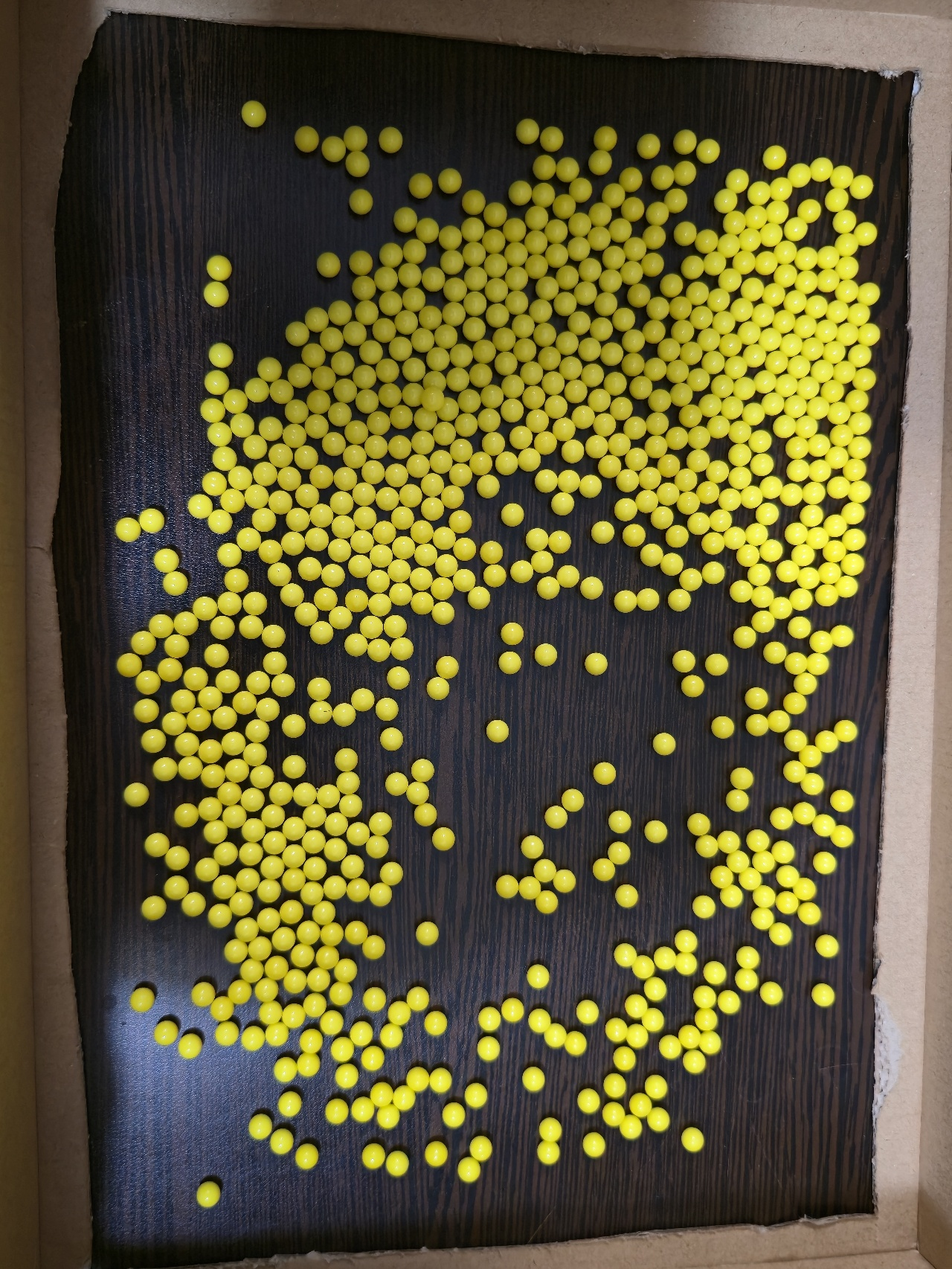yellow_bead: (223, 548, 236, 562), (213, 515, 227, 528), (194, 500, 208, 513), (248, 440, 262, 453), (121, 523, 134, 536), (145, 514, 158, 527), (218, 452, 231, 465), (159, 556, 173, 568), (210, 287, 222, 301), (582, 1006, 594, 1019), (659, 952, 671, 965), (288, 822, 300, 835), (250, 490, 263, 502), (234, 472, 247, 484), (550, 1029, 561, 1043), (534, 1014, 545, 1028), (483, 1042, 495, 1054), (742, 951, 754, 963), (822, 940, 834, 952), (650, 826, 662, 838), (567, 794, 579, 806), (269, 657, 281, 669), (292, 513, 304, 525), (259, 467, 271, 479), (236, 419, 248, 431), (206, 404, 218, 416), (251, 384, 263, 396), (856, 181, 868, 193), (766, 987, 777, 1000), (710, 967, 721, 980), (335, 497, 348, 508), (833, 482, 846, 493), (274, 449, 287, 460), (264, 423, 277, 434), (357, 1027, 367, 1041), (242, 533, 256, 543), (650, 983, 661, 995), (681, 935, 692, 947), (776, 928, 787, 940), (699, 901, 710, 913), (621, 890, 632, 902), (782, 870, 794, 881), (821, 857, 832, 869), (288, 849, 300, 860), (614, 847, 625, 859), (779, 846, 790, 858), (268, 836, 280, 847), (753, 835, 765, 846), (330, 818, 342, 829), (614, 816, 625, 828), (776, 813, 788, 824), (808, 778, 819, 790), (158, 762, 170, 773), (228, 737, 240, 748), (492, 725, 504, 736), (800, 678, 812, 689), (393, 672, 405, 683), (794, 622, 806, 633), (782, 565, 794, 576), (597, 527, 609, 538), (557, 498, 569, 509), (809, 487, 820, 499), (765, 482, 777, 493), (390, 469, 402, 480), (814, 465, 826, 476), (793, 465, 805, 476), (413, 460, 424, 472), (756, 459, 768, 470), (436, 456, 447, 468), (779, 421, 791, 432), (311, 420, 323, 431), (507, 404, 518, 416), (768, 398, 779, 410), (760, 376, 771, 388), (749, 350, 761, 361), (765, 333, 776, 345), (748, 283, 759, 295), (794, 169, 805, 181), (688, 1133, 698, 1146), (328, 1016, 338, 1029), (534, 970, 544, 983), (130, 788, 143, 798), (216, 621, 229, 631), (311, 533, 324, 543), (337, 521, 350, 531), (817, 163, 827, 176), (412, 992, 423, 1003), (422, 927, 433, 938), (702, 841, 713, 852), (248, 823, 259, 834), (819, 820, 830, 831), (551, 812, 562, 823), (800, 808, 811, 819), (791, 735, 802, 746), (591, 658, 602, 669), (504, 657, 515, 668), (674, 594, 685, 605), (543, 582, 554, 593), (754, 569, 765, 580), (537, 556, 548, 567), (421, 549, 432, 560), (532, 533, 543, 544), (730, 533, 741, 544), (830, 520, 841, 531), (694, 518, 705, 529), (725, 494, 736, 505), (855, 486, 866, 497), (428, 479, 439, 490), (341, 472, 352, 483), (693, 455, 704, 466), (855, 442, 866, 453), (755, 436, 766, 447), (516, 431, 527, 442), (803, 382, 814, 393), (782, 380, 793, 391), (855, 350, 866, 361), (819, 989, 829, 1001), (741, 976, 753, 986), (757, 915, 769, 925), (385, 867, 397, 877), (299, 788, 311, 798), (391, 778, 403, 788), (658, 739, 670, 749), (338, 709, 350, 719), (210, 649, 222, 659), (837, 631, 849, 641), (366, 621, 378, 631), (335, 611, 347, 621), (473, 592, 485, 602), (286, 589, 298, 599), (709, 567, 719, 579), (287, 537, 299, 547), (356, 536, 368, 546), (427, 503, 439, 513), (358, 488, 370, 498), (541, 475, 553, 485), (283, 472, 295, 482), (367, 466, 379, 476), (349, 450, 361, 460), (567, 445, 579, 455), (370, 441, 382, 451), (330, 437, 340, 449), (532, 415, 544, 425), (749, 408, 759, 420), (814, 402, 824, 414), (617, 402, 627, 414), (843, 329, 853, 341), (759, 309, 769, 321), (530, 1073, 539, 1086), (667, 1041, 676, 1054), (622, 949, 631, 962), (187, 898, 200, 907), (307, 835, 320, 844), (267, 810, 280, 819), (315, 626, 328, 635), (303, 562, 316, 571), (333, 544, 346, 553), (223, 597, 237, 605), (588, 1140, 599, 1150), (649, 1015, 659, 1026), (213, 910, 224, 920), (759, 892, 770, 902), (266, 861, 277, 871), (347, 860, 358, 870), (151, 838, 162, 848), (375, 817, 386, 827), (417, 765, 428, 775), (433, 683, 444, 693), (679, 655, 689, 666), (541, 649, 552, 659), (817, 636, 827, 647), (438, 607, 449, 617), (777, 603, 787, 614), (797, 594, 807, 605), (643, 594, 654, 604), (687, 574, 697, 585), (647, 549, 657, 560), (767, 545, 777, 556), (439, 533, 450, 543), (752, 529, 762, 540), (716, 515, 727, 525), (849, 508, 860, 518), (643, 495, 653, 506), (382, 492, 393, 502), (787, 489, 797, 500), (663, 488, 674, 498), (586, 481, 596, 492), (564, 475, 574, 486), (624, 475, 634, 486), (736, 472, 746, 483), (713, 466, 724, 476), (525, 454, 536, 464), (833, 452, 843, 463), (301, 451, 312, 461), (456, 444, 467, 454), (592, 441, 602, 452), (489, 437, 499, 448), (289, 429, 300, 439), (440, 428, 451, 438), (600, 419, 611, 429), (485, 414, 495, 425), (229, 395, 239, 406), (589, 369, 599, 380), (818, 365, 828, 376), (264, 365, 275, 375), (794, 362, 805, 372), (216, 349, 227, 359), (855, 309, 865, 320), (737, 305, 747, 316), (812, 301, 822, 312), (471, 298, 481, 309), (472, 272, 482, 283), (824, 251, 834, 262), (721, 195, 732, 205), (692, 1056, 701, 1068), (247, 1034, 256, 1046), (634, 1029, 643, 1041), (235, 897, 247, 906), (329, 881, 341, 890), (541, 864, 550, 876), (201, 863, 213, 872), (219, 847, 231, 856), (329, 844, 341, 853), (246, 794, 258, 803), (342, 777, 354, 786), (288, 760, 300, 769), (147, 734, 159, 743), (386, 733, 398, 742), (381, 703, 393, 712), (373, 644, 385, 653), (396, 643, 408, 652), (300, 608, 312, 617), (199, 602, 211, 611), (759, 591, 768, 603), (395, 588, 407, 597), (738, 585, 747, 597), (516, 566, 528, 575), (393, 565, 405, 574), (354, 560, 366, 569), (375, 550, 387, 559), (398, 542, 410, 551), (359, 512, 371, 521), (765, 508, 774, 520), (226, 495, 238, 504), (302, 489, 314, 498), (455, 469, 467, 478), (336, 408, 345, 420), (705, 145, 714, 157), (548, 1123, 556, 1136), (656, 1113, 664, 1126), (147, 902, 160, 910), (251, 725, 264, 733), (221, 675, 234, 683), (245, 621, 258, 629), (274, 496, 287, 504), (241, 923, 251, 933), (219, 880, 229, 890), (760, 857, 770, 867), (713, 659, 723, 669), (771, 647, 781, 657), (682, 474, 692, 484), (646, 472, 656, 482), (615, 439, 625, 449), (419, 437, 429, 447), (856, 418, 866, 428), (579, 411, 589, 421), (835, 408, 845, 418), (552, 401, 562, 411), (732, 362, 742, 372), (457, 350, 467, 360), (865, 288, 875, 298), (843, 286, 853, 296), (471, 1093, 482, 1102), (435, 1079, 446, 1088), (313, 974, 324, 983), (681, 960, 692, 969), (263, 913, 274, 922), (375, 889, 386, 898), (171, 881, 182, 890), (243, 874, 254, 883), (171, 852, 182, 861), (726, 836, 735, 847), (275, 787, 286, 796), (288, 720, 299, 729), (205, 692, 216, 701), (815, 658, 824, 669), (760, 616, 769, 627), (620, 596, 631, 605), (586, 582, 597, 591), (170, 577, 181, 586), (459, 574, 470, 583), (231, 574, 242, 583), (850, 559, 859, 570), (316, 510, 327, 519), (507, 509, 518, 518), (405, 489, 416, 498), (483, 481, 494, 490), (852, 464, 861, 475), (737, 449, 746, 460), (216, 428, 225, 439), (559, 423, 570, 432), (632, 422, 641, 433), (729, 402, 738, 413), (596, 394, 605, 405), (550, 377, 559, 388), (361, 371, 370, 382), (609, 348, 618, 359), (809, 343, 818, 354), (788, 339, 797, 350), (419, 334, 428, 345), (746, 327, 755, 338), (802, 321, 811, 332), (495, 309, 504, 320), (834, 306, 843, 317), (727, 274, 736, 285), (493, 260, 502, 271), (756, 187, 765, 198), (654, 1081, 662, 1093), (338, 1044, 346, 1056), (395, 1006, 403, 1018), (634, 1000, 642, 1012), (727, 997, 735, 1009), (702, 991, 710, 1003), (352, 828, 364, 836), (209, 826, 221, 834), (228, 812, 240, 820), (309, 810, 321, 818), (323, 790, 335, 798), (256, 771, 268, 779), (599, 768, 611, 776), (340, 754, 352, 762), (181, 738, 193, 746), (825, 736, 833, 748), (140, 704, 152, 712), (357, 694, 369, 702), (277, 679, 289, 687), (268, 630, 280, 638), (248, 597, 260, 605), (415, 573, 427, 581), (562, 571, 574, 579), (495, 283, 503, 295), (214, 262, 222, 274), (587, 1095, 594, 1108), (343, 1074, 353, 1083), (271, 1031, 280, 1041), (223, 1031, 232, 1041), (729, 892, 738, 902), (526, 881, 536, 890), (746, 875, 756, 884), (560, 875, 570, 884), (735, 857, 744, 867), (438, 832, 448, 841), (739, 773, 748, 783), (791, 766, 800, 776), (754, 719, 763, 729), (793, 658, 802, 668), (668, 559, 678, 568), (658, 512, 668, 521), (398, 512, 408, 521), (622, 504, 631, 514), (502, 457, 512, 466), (396, 442, 406, 451), (653, 418, 663, 427), (792, 401, 801, 411), (707, 400, 716, 410), (573, 385, 582, 395), (741, 383, 750, 393), (719, 381, 728, 391), (861, 373, 870, 383), (841, 367, 850, 377), (410, 364, 419, 374), (831, 347, 840, 357), (368, 347, 377, 357), (397, 343, 406, 353), (706, 334, 715, 344), (866, 329, 875, 339), (721, 317, 730, 327), (576, 317, 585, 327), (451, 308, 460, 318), (537, 306, 547, 315), (608, 275, 617, 285), (843, 263, 853, 272), (711, 257, 721, 266), (803, 253, 812, 263), (576, 243, 585, 253), (768, 229, 777, 239), (863, 228, 872, 238), (774, 207, 783, 217), (839, 171, 848, 181), (707, 1038, 715, 1049), (641, 961, 649, 972), (319, 907, 330, 915), (310, 863, 321, 871), (841, 795, 849, 806), (231, 764, 242, 772), (168, 717, 179, 725), (219, 712, 230, 720), (314, 683, 325, 691), (191, 672, 202, 680), (137, 637, 148, 645), (180, 617, 191, 625), (844, 581, 852, 592), (373, 575, 384, 583), (379, 527, 390, 535), (738, 426, 746, 437), (511, 380, 519, 391), (456, 373, 464, 384), (568, 362, 576, 373), (588, 344, 596, 355), (515, 296, 523, 307), (263, 886, 275, 893), (245, 849, 257, 856), (184, 762, 196, 769), (249, 749, 261, 756), (262, 707, 274, 714), (177, 695, 189, 702), (187, 1041, 196, 1050), (280, 933, 289, 942), (776, 716, 785, 725), (674, 530, 683, 539), (634, 454, 643, 463), (631, 335, 640, 344), (442, 331, 451, 340), (520, 321, 529, 330), (383, 274, 392, 283), (725, 240, 734, 249), (843, 240, 852, 249), (387, 1035, 397, 1043), (138, 994, 146, 1004), (230, 945, 240, 953), (373, 841, 383, 849), (443, 661, 453, 669), (740, 632, 750, 640), (375, 600, 385, 608), (265, 545, 275, 553), (686, 497, 694, 507), (448, 491, 458, 499), (697, 432, 705, 442), (530, 367, 538, 377), (340, 358, 348, 368), (470, 326, 480, 334), (695, 287, 703, 297), (783, 270, 791, 280), (408, 269, 416, 279), (372, 992, 379, 1003), (171, 640, 182, 647), (316, 470, 327, 477), (437, 353, 444, 364), (405, 316, 412, 327), (584, 287, 591, 298), (451, 1114, 460, 1122), (288, 1012, 297, 1020), (255, 942, 263, 951), (304, 926, 312, 935), (808, 910, 816, 919), (803, 884, 811, 893), (422, 809, 431, 817), (205, 803, 214, 811), (143, 676, 152, 684), (419, 597, 428, 605), (824, 591, 832, 600), (827, 568, 835, 577), (746, 550, 754, 559), (556, 536, 565, 544), (791, 528, 800, 536), (257, 518, 269, 524), (654, 441, 662, 450), (855, 396, 863, 405), (831, 387, 839, 396), (676, 367, 684, 376), (504, 358, 512, 367), (565, 338, 573, 347), (352, 329, 360, 338), (782, 318, 790, 327), (825, 277, 834, 285), (201, 988, 208, 998), (307, 889, 317, 896), (845, 726, 852, 736), (508, 628, 518, 635), (321, 593, 331, 600), (438, 582, 448, 589), (460, 543, 470, 550), (418, 526, 428, 533), (456, 515, 466, 522), (210, 477, 220, 484), (717, 421, 724, 431), (292, 408, 302, 415), (365, 396, 372, 406), (276, 387, 286, 394), (344, 385, 351, 395), (614, 378, 621, 388), (712, 357, 719, 367), (330, 334, 337, 344), (589, 264, 596, 274), (836, 194, 843, 204), (341, 966, 352, 972), (527, 846, 538, 852), (489, 570, 500, 576), (433, 393, 439, 404), (565, 298, 571, 309), (718, 294, 724, 305), (614, 251, 620, 262), (545, 897, 553, 905), (602, 864, 610, 872), (721, 722, 729, 730), (754, 693, 762, 701), (600, 325, 608, 333), (411, 295, 419, 303), (453, 286, 461, 294), (268, 1009, 275, 1018), (293, 975, 300, 984), (246, 966, 255, 973), (695, 819, 704, 826), (206, 745, 215, 752), (689, 681, 698, 688), (607, 460, 616, 467), (840, 431, 847, 440), (422, 417, 431, 424), (533, 391, 540, 400), (623, 315, 630, 324), (432, 274, 439, 283), (450, 257, 457, 266), (472, 225, 479, 234), (276, 1135, 286, 1141), (698, 374, 704, 384), (605, 298, 611, 308), (547, 282, 553, 292), (516, 273, 522, 283), (631, 267, 637, 277), (634, 243, 640, 253), (465, 1169, 472, 1177), (842, 832, 849, 840), (182, 809, 190, 816), (242, 697, 250, 704), (658, 396, 665, 404), (680, 389, 687, 397), (297, 372, 305, 379), (654, 364, 661, 372), (296, 330, 303, 338), (314, 317, 322, 324), (771, 291, 779, 298), (670, 280, 677, 288), (765, 260, 772, 268), (748, 237, 755, 245), (619, 226, 626, 234), (684, 137, 691, 145), (412, 792, 423, 797), (441, 564, 452, 569), (631, 1125, 637, 1134), (401, 1093, 407, 1102), (489, 1012, 495, 1021), (225, 788, 234, 794), (811, 751, 817, 760), (166, 664, 175, 670), (631, 530, 640, 536), (677, 433, 683, 442), (469, 396, 475, 405), (657, 303, 663, 312), (390, 299, 396, 308), (692, 263, 698, 272), (599, 234, 605, 243), (657, 208, 663, 217), (203, 1189, 213, 1194), (709, 487, 714, 497), (386, 1114, 393, 1121), (668, 346, 675, 353), (338, 310, 345, 317), (397, 1160, 403, 1168), (548, 1151, 554, 1159), (477, 1148, 485, 1154), (313, 1000, 319, 1008), (373, 941, 379, 949), (208, 771, 216, 777), (126, 659, 134, 665), (489, 547, 497, 553), (544, 437, 550, 445), (377, 421, 385, 427), (466, 420, 472, 428), (492, 392, 498, 400), (683, 327, 689, 335), (701, 313, 707, 321), (366, 309, 372, 317), (685, 228, 691, 236), (808, 207, 816, 213), (280, 1065, 289, 1070), (507, 881, 512, 890), (722, 872, 727, 881), (835, 546, 840, 555), (551, 353, 556, 362), (299, 951, 306, 957), (289, 906, 295, 913), (196, 713, 202, 720), (280, 571, 286, 578), (713, 538, 719, 545), (480, 458, 486, 465), (448, 406, 454, 413), (434, 377, 440, 384), (654, 327, 660, 334), (744, 258, 750, 265), (390, 252, 397, 258), (515, 251, 522, 257), (556, 227, 562, 234), (520, 189, 526, 196), (616, 1083, 621, 1091), (617, 1026, 622, 1034), (642, 384, 647, 392), (692, 349, 697, 357), (545, 330, 550, 338), (557, 251, 562, 259), (414, 246, 419, 254), (260, 1123, 266, 1129), (360, 1108, 366, 1114), (436, 1021, 442, 1027), (356, 643, 362, 649), (387, 367, 393, 373), (430, 315, 436, 321), (450, 234, 456, 240), (675, 197, 681, 203), (600, 158, 606, 164), (258, 680, 265, 685), (332, 573, 339, 578), (313, 350, 318, 357), (475, 251, 480, 258), (537, 238, 542, 245), (708, 236, 713, 243), (581, 222, 586, 229), (538, 215, 543, 222), (615, 192, 620, 199), (265, 986, 269, 994), (690, 1035, 695, 1041), (160, 1027, 166, 1032), (788, 901, 793, 907), (292, 876, 298, 881), (351, 804, 357, 809), (796, 698, 801, 704), (670, 460, 675, 466), (357, 428, 362, 434), (526, 347, 531, 353), (664, 173, 669, 179), (685, 170, 690, 176), (648, 142, 654, 147), (482, 372, 486, 379), (485, 347, 489, 354), (505, 335, 509, 342), (569, 273, 573, 280), (602, 211, 606, 218), (569, 166, 573, 173), (851, 534, 860, 537), (808, 510, 817, 513), (575, 1043, 580, 1048), (707, 1019, 712, 1024), (384, 327, 389, 332), (655, 234, 660, 239), (544, 193, 549, 198), (315, 707, 319, 713), (750, 491, 756, 495), (401, 414, 407, 418), (364, 287, 370, 291), (817, 440, 824, 443), (163, 622, 167, 627), (797, 551, 801, 556), (634, 362, 639, 366), (641, 292, 645, 297), (328, 263, 332, 268), (654, 261, 658, 266), (428, 228, 433, 232), (406, 217, 410, 222), (496, 211, 501, 215), (361, 200, 365, 205), (529, 129, 533, 134), (341, 990, 344, 996), (413, 389, 416, 395), (582, 187, 585, 193), (739, 801, 743, 805), (692, 414, 696, 418), (517, 228, 521, 232), (325, 376, 328, 381), (358, 162, 361, 167), (805, 573, 812, 575), (814, 533, 821, 535), (838, 220, 840, 227), (391, 393, 394, 397), (736, 222, 739, 226), (634, 208, 638, 211), (450, 179, 454, 182), (335, 148, 338, 152), (803, 421, 808, 423), (214, 376, 219, 378), (382, 1096, 385, 1099), (416, 1079, 419, 1082), (513, 1010, 516, 1013), (155, 624, 158, 627), (319, 400, 322, 403), (362, 261, 365, 264), (495, 240, 498, 243), (356, 138, 359, 141), (554, 136, 557, 139), (310, 1042, 312, 1046), (332, 931, 334, 935), (806, 514, 808, 518), (309, 1065, 311, 1068), (625, 1059, 628, 1061), (221, 1007, 223, 1010), (328, 956, 330, 959), (344, 805, 347, 807), (396, 627, 399, 629), (775, 356, 778, 358), (682, 306, 684, 309), (793, 296, 796, 298), (808, 277, 811, 279), (538, 266, 540, 269), (567, 205, 570, 207), (393, 140, 395, 143), (614, 1115, 616, 1117), (335, 1112, 337, 1114), (845, 216, 849, 217), (290, 1102, 293, 1103), (277, 965, 278, 968), (802, 550, 805, 551), (222, 381, 223, 384), (785, 246, 788, 247), (794, 223, 797, 224), (756, 211, 759, 212), (475, 202, 478, 203), (780, 183, 783, 184), (737, 175, 740, 176), (357, 931, 358, 933), (826, 325, 828, 326), (546, 165, 547, 167), (252, 681, 253, 682), (350, 643, 351, 644), (161, 627, 162, 628), (400, 625, 401, 626), (273, 574, 274, 575), (808, 553, 809, 554), (806, 551, 807, 552), (860, 538, 861, 539), (801, 530, 802, 531), (817, 514, 818, 515), (756, 495, 757, 496), (221, 379, 222, 380), (824, 326, 825, 327), (788, 247, 789, 248), (790, 228, 791, 229), (793, 224, 794, 225), (732, 181, 733, 182), (633, 179, 634, 180), (776, 151, 777, 152), (795, 443, 798, 443), (811, 425, 812, 425), (809, 423, 810, 423), (811, 280, 812, 280), (791, 226, 791, 227), (850, 219, 851, 219), (840, 219, 840, 219), (741, 176, 742, 176), (778, 152, 779, 152)
